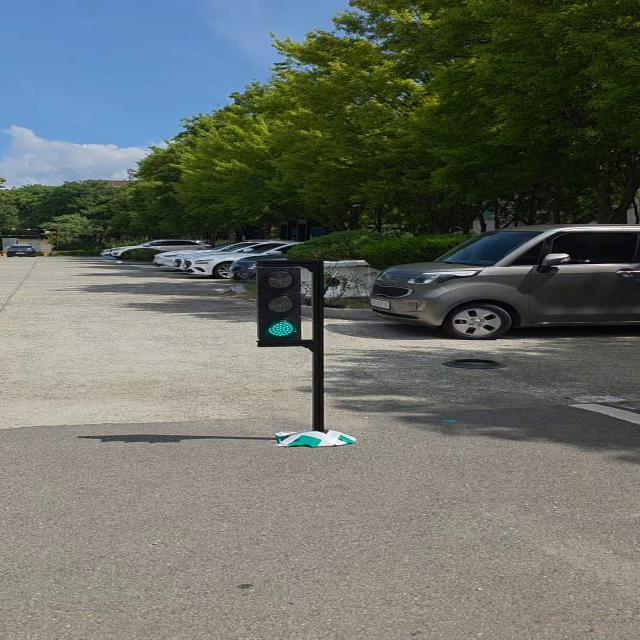green: (259, 260, 304, 343)
